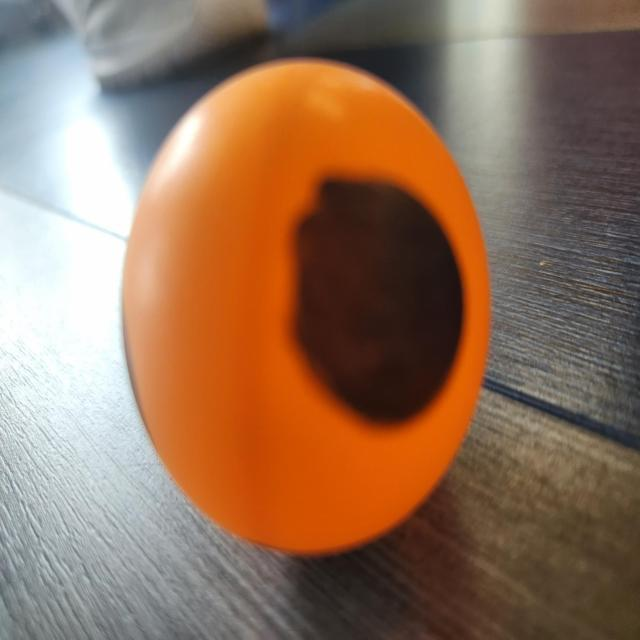oball: (109, 42, 522, 576)
